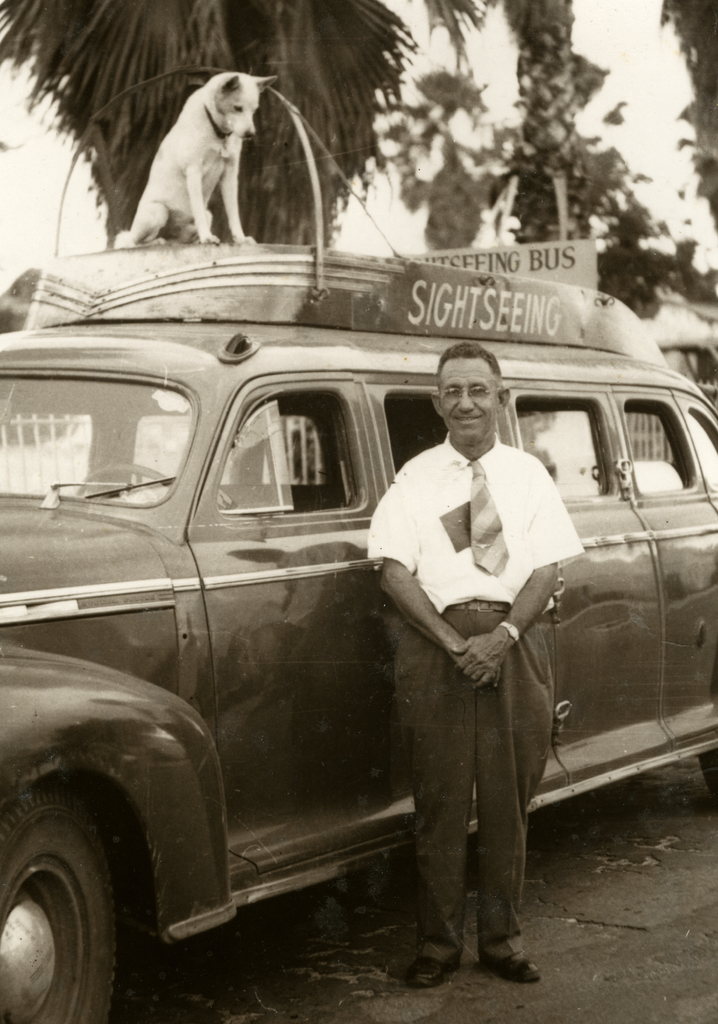cars: (0, 239, 717, 1022), (644, 331, 717, 430)
